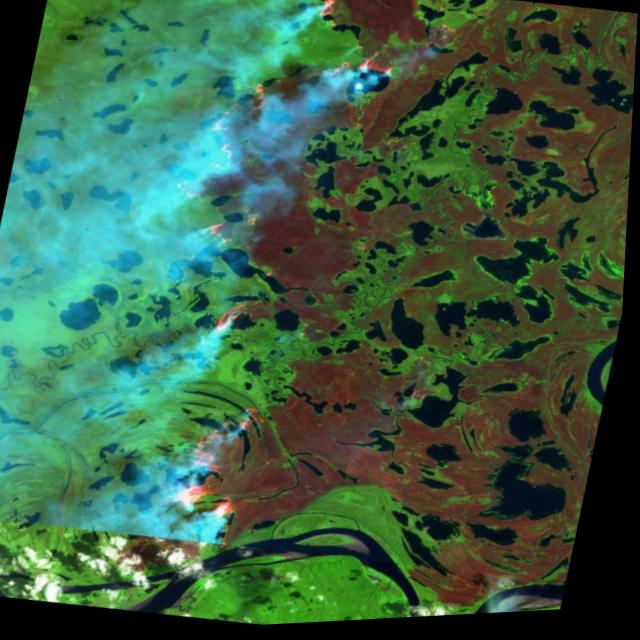fire: (91, 0, 465, 573)
